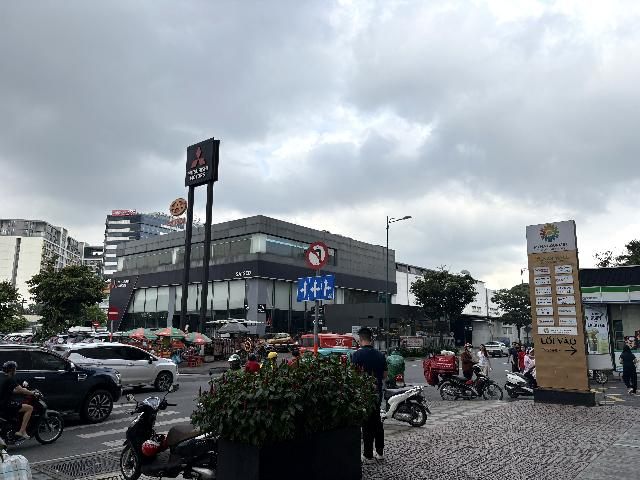cam-di-nguoc-chieu: (107, 306, 120, 320)
cam-re-trai: (306, 241, 329, 269)
